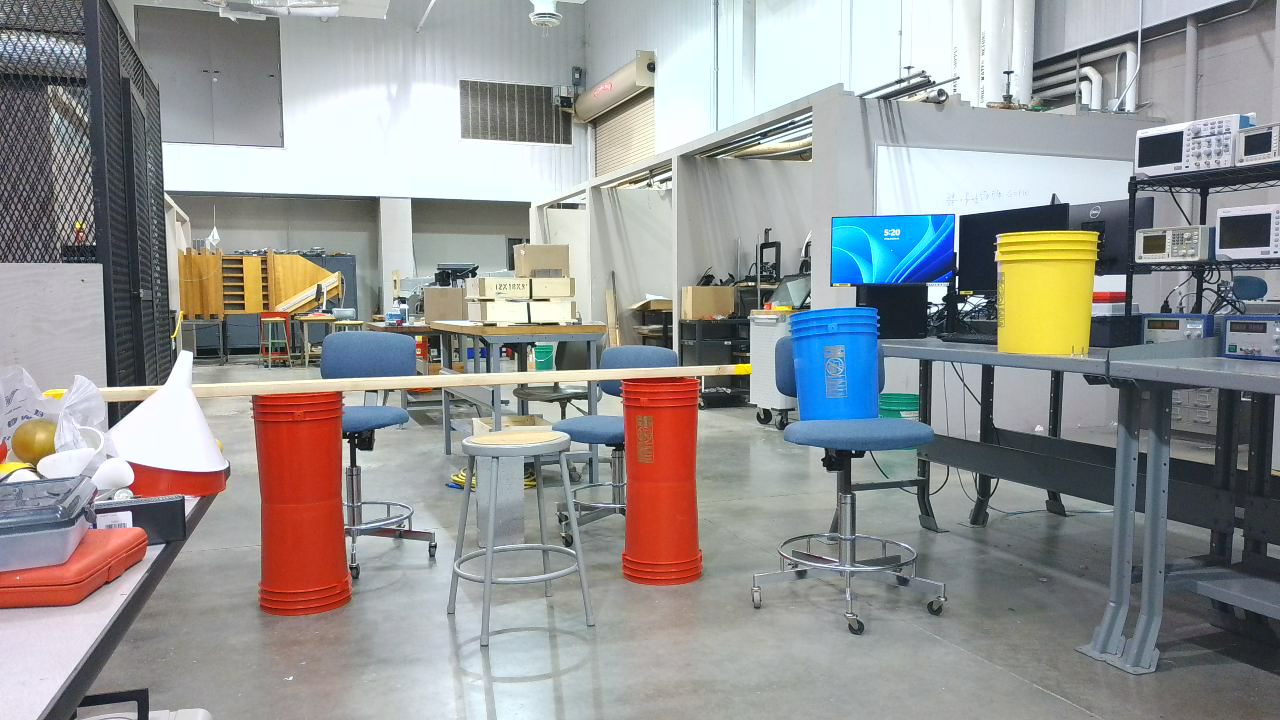blue_bucket: (789, 309, 890, 429)
red_bucket_arch: (253, 371, 712, 625)
yellow_bucket: (994, 230, 1109, 365)
